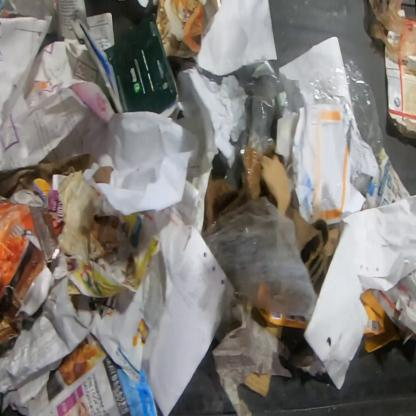cardboard: (202, 144, 346, 284), (0, 196, 66, 359), (304, 222, 367, 390), (101, 12, 180, 119), (384, 44, 416, 139)
soft_plastic: (202, 198, 318, 324), (308, 61, 384, 154), (231, 61, 293, 159), (367, 0, 415, 60), (351, 172, 371, 194)
